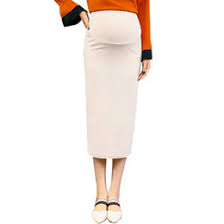C_skirt: (80, 12, 148, 163)
